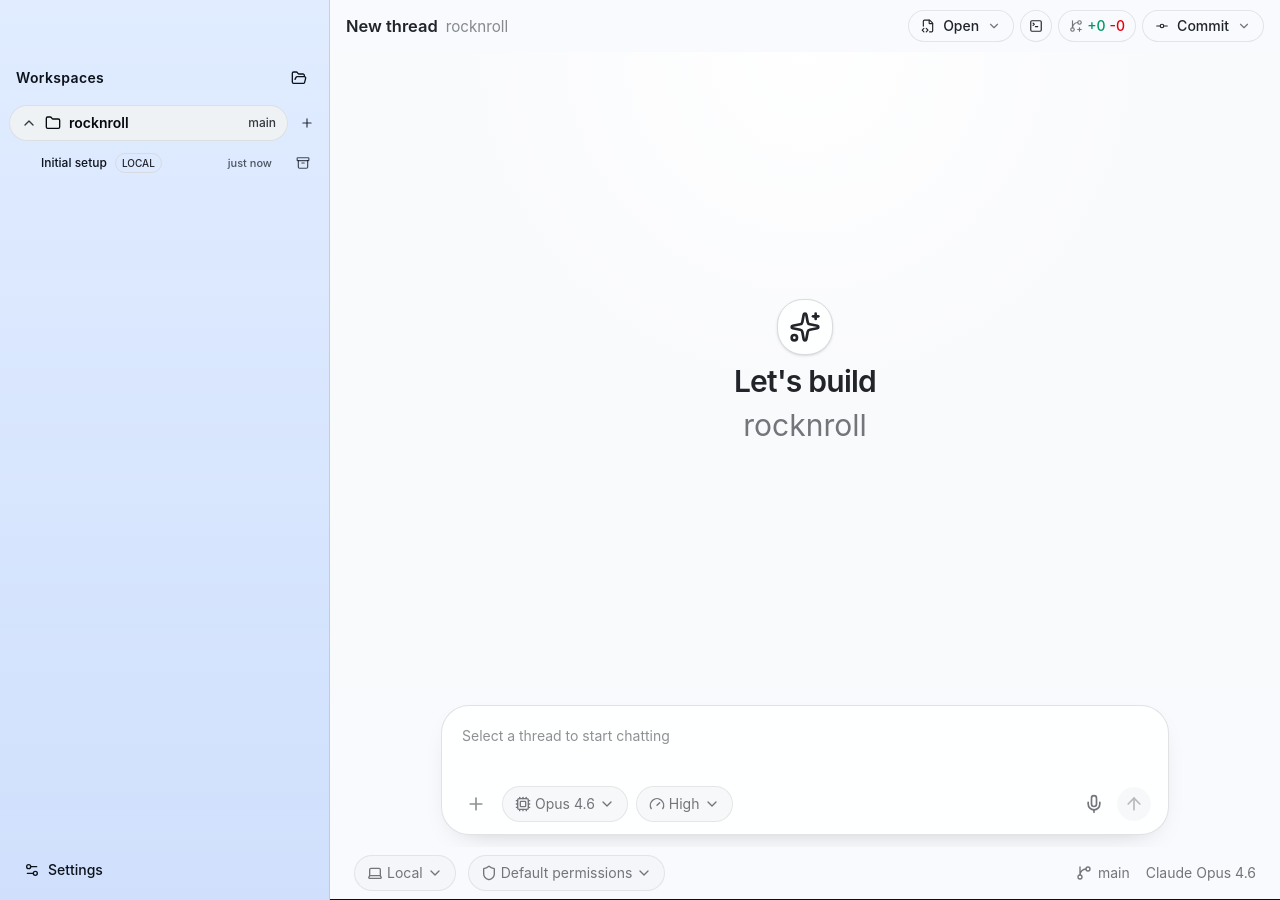
app shell integration › creates a new thread and sends a message
The width and height of the screenshot is (1280, 900).
Click the button named "Create thread in rocknroll": (307, 123) [293,109,321,137]
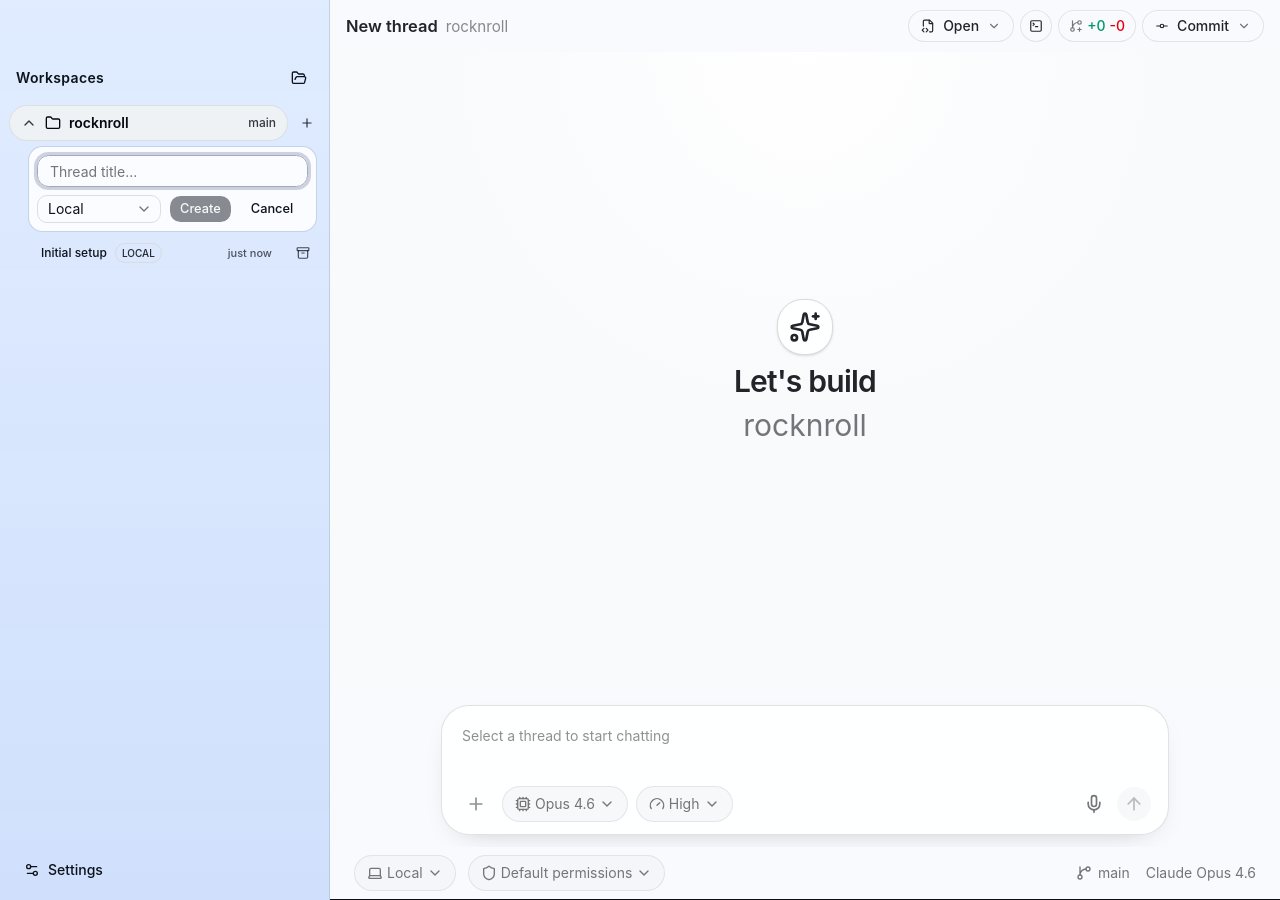
In the field with placeholder "Thread title...": (172, 171) [37,155,308,187], type "Test thread"
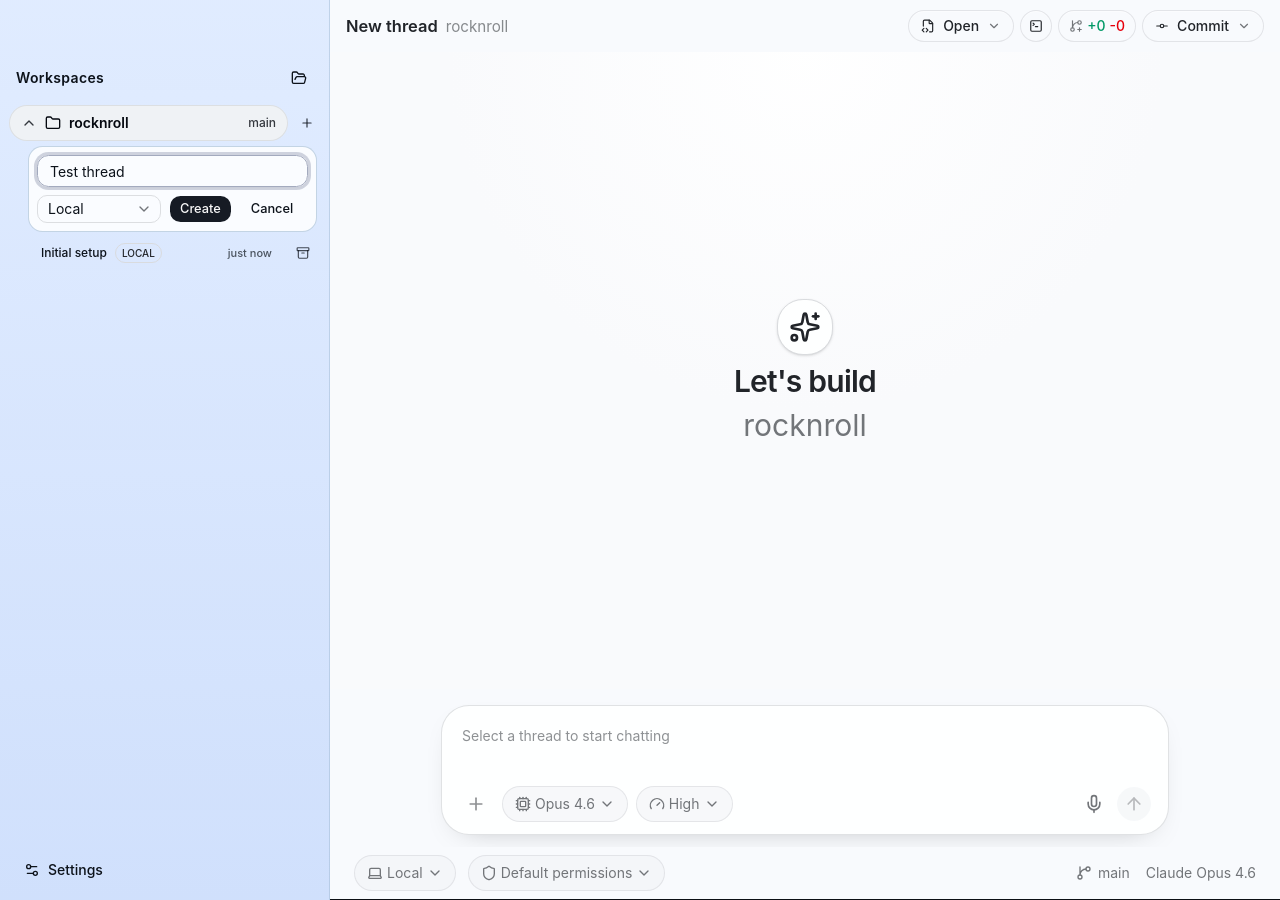
Press Enter
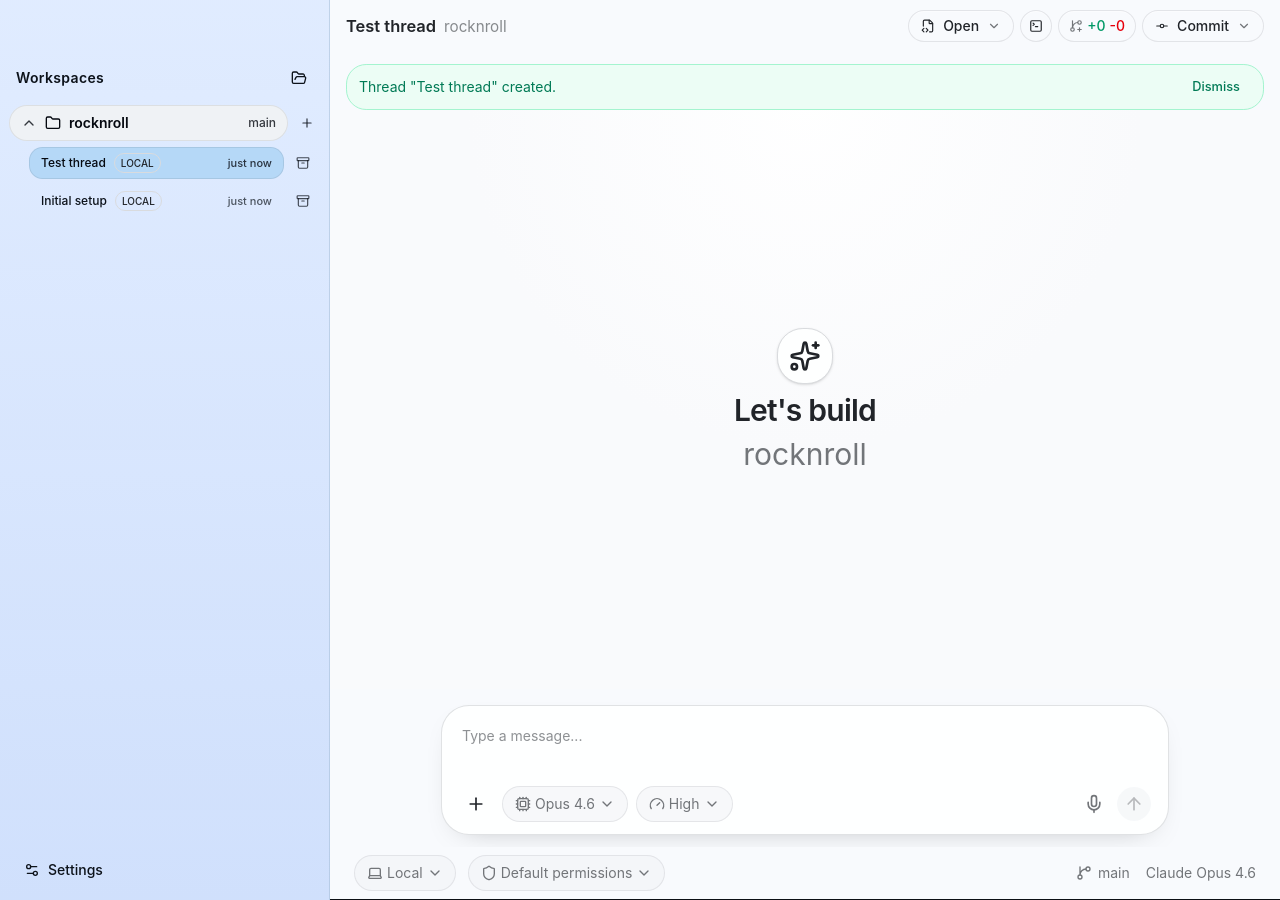
Expected: the message shows "Thread \"Test thread\" created", [359,78,556,95]
In the text box with placeholder "Type a message...": (805, 752) [458,718,1152,786], type "hello"
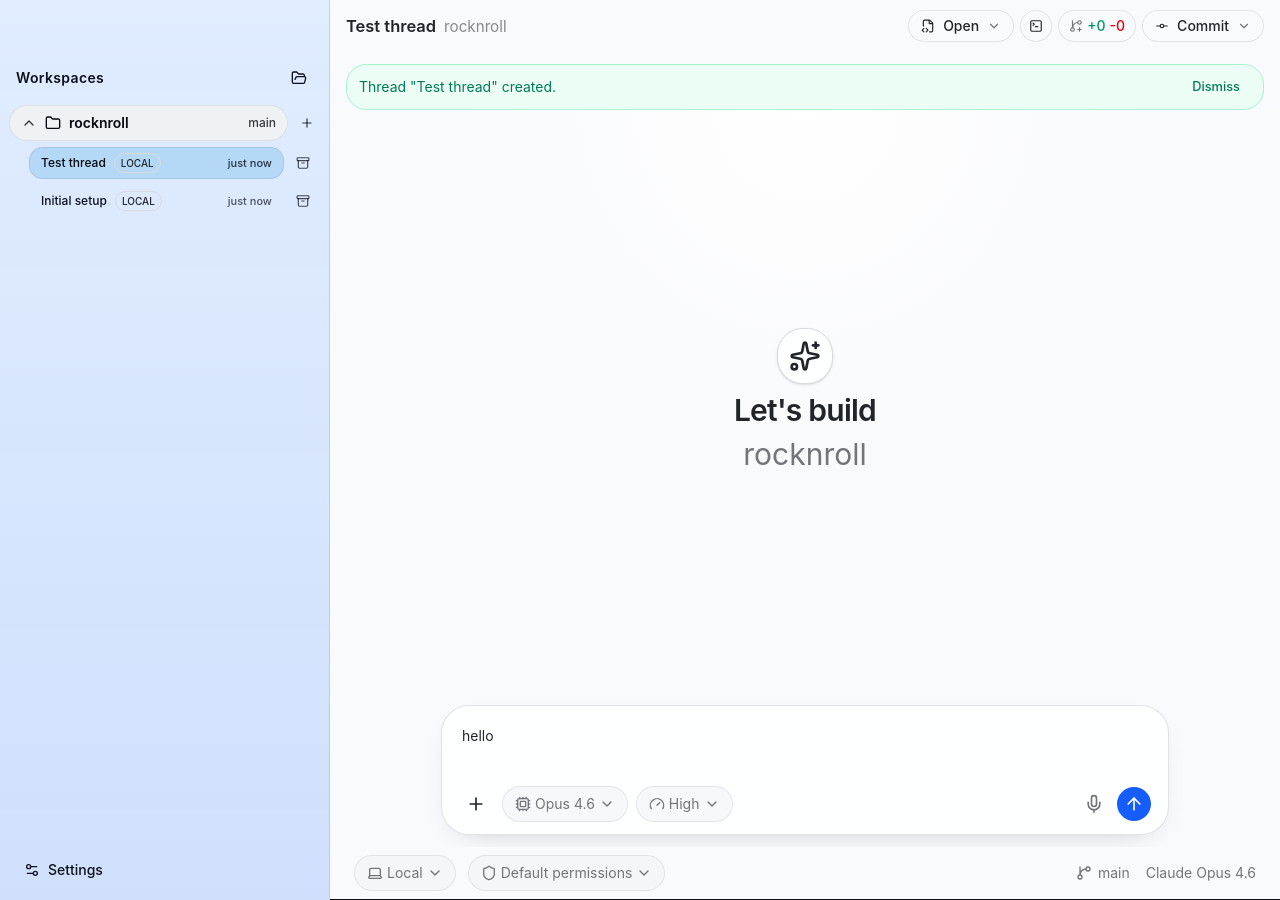
Click the 2nd button named "Send": (1134, 804) [1116,786,1152,822]
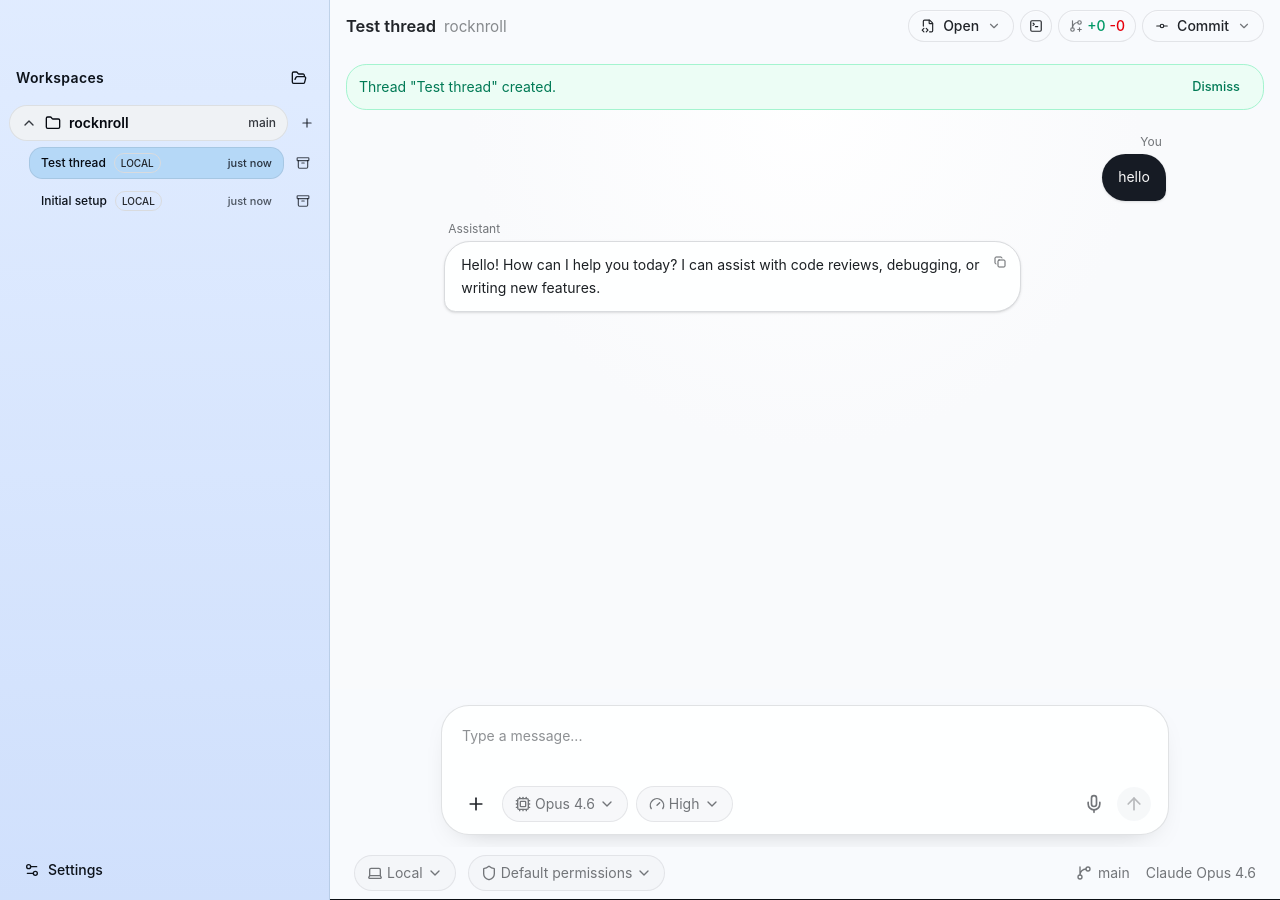
Expected: the text "You" is shown, [1140,134,1162,149]
Expected: the text "Assistant" is shown, [444,221,504,237]
